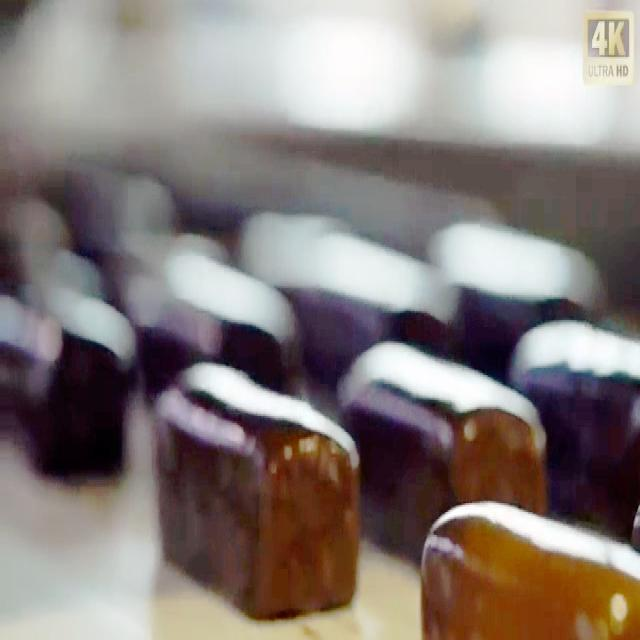Choco: (151, 356, 363, 620), (339, 334, 548, 508), (417, 494, 638, 635), (513, 311, 640, 512)
